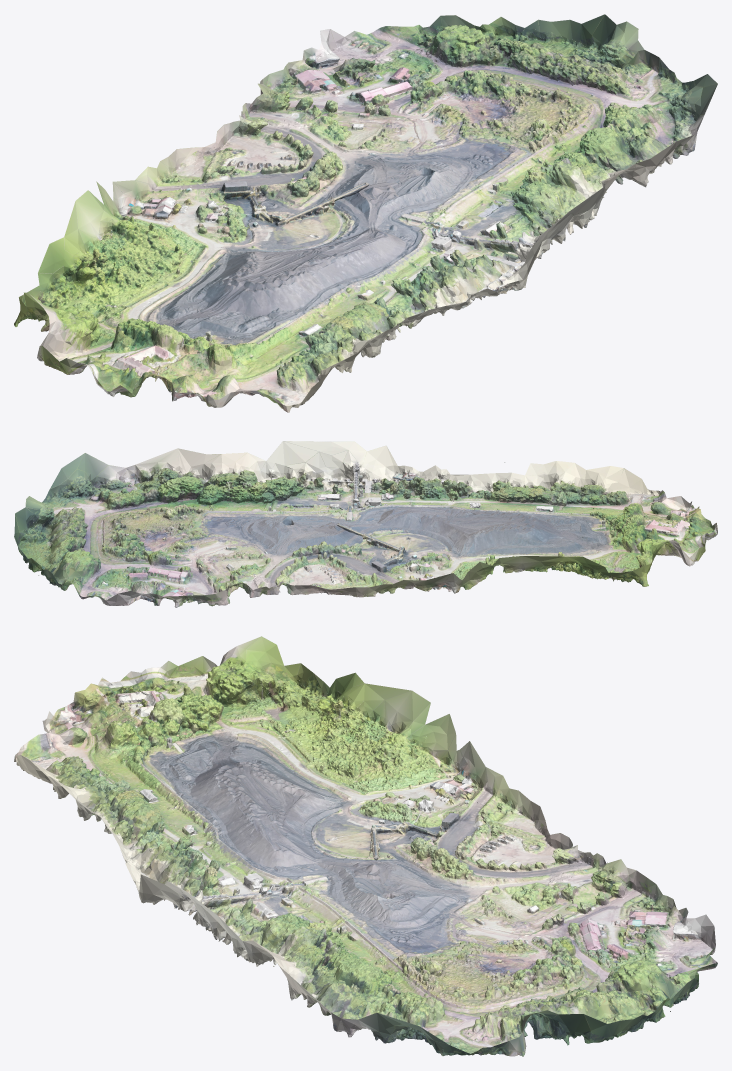
The model's file is terrain.glb.
The picture shows the model from 3 angles, top to bottom: view 1: azimuth 30°, elevation 25°; view 2: azimuth 150°, elevation 25°; view 3: azimuth 270°, elevation 25°; orthographic projection. The views are drawn at different scales.
Visible parts, largest first — view 1: Terrain_Main, Terrain_Skirt; view 2: Terrain_Main, Terrain_Skirt; view 3: Terrain_Main, Terrain_Skirt.
Boxes of the visible parts, left/top/right/bottom form: Terrain_Main: left=14, top=24, right=696, bottom=412; Terrain_Skirt: left=15, top=14, right=717, bottom=410; Terrain_Main: left=18, top=462, right=717, bottom=607; Terrain_Skirt: left=14, top=441, right=717, bottom=605; Terrain_Main: left=14, top=658, right=717, bottom=1056; Terrain_Skirt: left=15, top=636, right=715, bottom=1055.
Bounding box in the file's own units: 632 × 53.44 × 504.
Materials: 1 (1 with a texture image).
